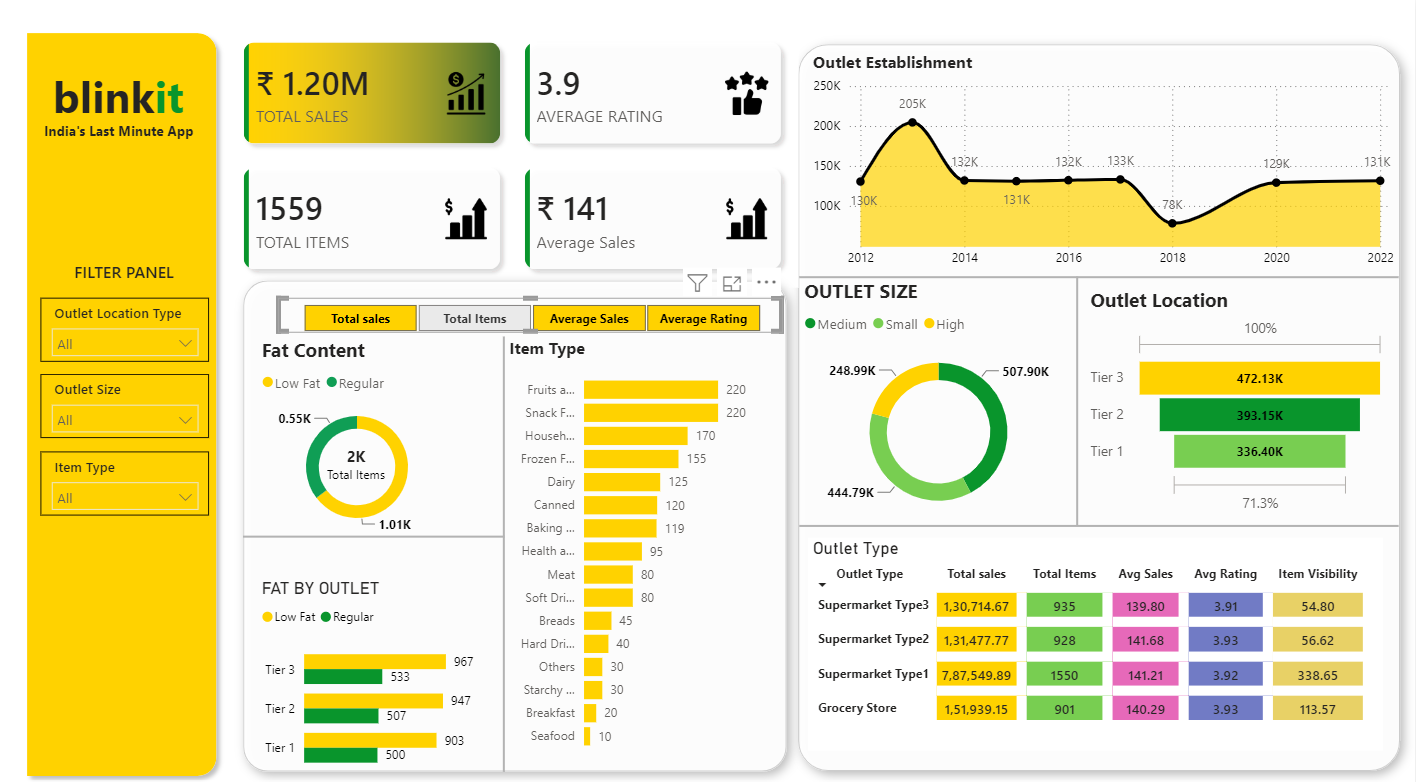

Layout of this report page (visuals, bound fields, positions):
{"tool":"powerbi","page":{"name":"Page 1","canvas":[1400,800],"ordinal":0},"visuals":[{"type":"shape","box":[775.6,30,624.4,747.8],"z":0},{"type":"cardVisual","fields":{"Data":["Sum(BlinkIT Grocery Data.Total Sales)","BlinkIT Grocery Data.Total Items","Avg(BlinkIT Grocery Data.Rating)","BlinkIT Grocery Data.AVERAGE SALES"]},"box":[226.4,25.4,564.7,259.4],"z":1000},{"type":"shape","box":[226.7,263.3,566.7,515],"z":2000},{"type":"shape","box":[20,25,205,751.7],"z":3000},{"type":"textbox","box":[49.5,61.5,150.1,81],"z":4000},{"type":"textbox","box":[40.5,115.6,166.6,36],"z":5000},{"type":"donutChart","title":"Fat Content","fields":{"Y":["BlinkIT Grocery Data.Total sales"],"Category":["BlinkIT Grocery Data.Item Fat Content"]},"box":[255.6,333.2,198.4,203.5],"z":6000},{"type":"slicer","fields":{"Values":["Metrics.Metrics"]},"box":[276,295.1,499.8,34.3],"z":7000},{"type":"cardVisual","fields":{"Data":["BlinkIT Grocery Data.Total sales"]},"box":[311.6,435,85.2,48.3],"z":8000},{"type":"clusteredBarChart","title":"FAT BY OUTLET","fields":{"Y":["BlinkIT Grocery Data.Total sales"],"Category":["BlinkIT Grocery Data.Outlet Location Type"],"Series":["BlinkIT Grocery Data.Item Fat Content"]},"box":[255,571.7,220,205],"z":9000},{"type":"shape","box":[241.6,526.5,258.2,10.2],"z":10000},{"type":"shape","box":[465,333.3,68.3,430],"z":11000},{"type":"barChart","title":"Item Type","fields":{"Y":["BlinkIT Grocery Data.Total sales"],"Category":["BlinkIT Grocery Data.Item Type"]},"box":[499.8,333.2,264.5,418.4],"z":12000},{"type":"lineChart","title":"Outlet Establishment","fields":{"Category":["BlinkIT Grocery Data.Outlet Establishment Year"],"Y":["BlinkIT Grocery Data.Total sales"]},"box":[800,51.1,583.3,223.3],"z":13000},{"type":"shape","box":[791.1,264.4,592.2,21.1],"z":14000},{"type":"donutChart","title":"OUTLET SIZE","fields":{"Y":["BlinkIT Grocery Data.Total sales"],"Category":["BlinkIT Grocery Data.Outlet Size"]},"box":[791.1,275.6,275.6,250],"z":15000},{"type":"funnel","title":"Outlet Location ","fields":{"Category":["BlinkIT Grocery Data.Outlet Location Type"],"Y":["Sum(BlinkIT Grocery Data.Sales)"]},"box":[1074.4,284.4,301.1,228.9],"z":16000},{"type":"pivotTable","title":"Outlet Type","fields":{"Rows":["BlinkIT Grocery Data.Outlet Type"],"Values":["BlinkIT Grocery Data.Total sales","BlinkIT Grocery Data.Total Items","BlinkIT Grocery Data.Average Sales","BlinkIT Grocery Data.Average Rating","Sum(BlinkIT Grocery Data.Item Visibility)"]},"box":[800,531.7,568.3,210],"z":17000},{"type":"shape","box":[791.1,510,592.2,21.1],"z":18000},{"type":"shape","box":[1031.1,274.4,70,246.7],"z":19000},{"type":"slicer","fields":{"Values":["BlinkIT Grocery Data.Outlet Location Type"]},"box":[41.7,295,166.7,63.3],"z":20000},{"type":"slicer","fields":{"Values":["BlinkIT Grocery Data.Outlet Size"]},"box":[41.7,370,166.7,63.3],"z":21000},{"type":"slicer","fields":{"Values":["BlinkIT Grocery Data.Item Type"]},"box":[41.7,446.7,166.7,63.3],"z":22000},{"type":"textbox","box":[63.3,253.3,123.3,58.3],"z":23000}]}

Visuals, with their boxes on the page's 1400x800 design canvas (x1, y1, x2, y2). These are canvas units, not pixel positions in the 1416x782 screenshot, which may show the page scaled, cropped or inside an application window:
shape: [left=776, top=30, right=1400, bottom=778]
cardVisual - Sum(BlinkIT Grocery Data.Total Sales) x BlinkIT Grocery Data.Total Items: [left=226, top=25, right=791, bottom=285]
shape: [left=227, top=263, right=793, bottom=778]
shape: [left=20, top=25, right=225, bottom=777]
textbox: [left=50, top=62, right=200, bottom=142]
textbox: [left=40, top=116, right=207, bottom=152]
"Fat Content" donutChart: [left=256, top=333, right=454, bottom=537]
slicer - Metrics.Metrics: [left=276, top=295, right=776, bottom=329]
cardVisual - BlinkIT Grocery Data.Total sales: [left=312, top=435, right=397, bottom=483]
"FAT BY OUTLET" clusteredBarChart: [left=255, top=572, right=475, bottom=777]
shape: [left=242, top=526, right=500, bottom=537]
shape: [left=465, top=333, right=533, bottom=763]
"Item Type" barChart: [left=500, top=333, right=764, bottom=752]
"Outlet Establishment" lineChart: [left=800, top=51, right=1383, bottom=274]
shape: [left=791, top=264, right=1383, bottom=286]
"OUTLET SIZE" donutChart: [left=791, top=276, right=1067, bottom=526]
"Outlet Location " funnel: [left=1074, top=284, right=1376, bottom=513]
"Outlet Type" pivotTable: [left=800, top=532, right=1368, bottom=742]
shape: [left=791, top=510, right=1383, bottom=531]
shape: [left=1031, top=274, right=1101, bottom=521]
slicer - BlinkIT Grocery Data.Outlet Location Type: [left=42, top=295, right=208, bottom=358]
slicer - BlinkIT Grocery Data.Outlet Size: [left=42, top=370, right=208, bottom=433]
slicer - BlinkIT Grocery Data.Item Type: [left=42, top=447, right=208, bottom=510]
textbox: [left=63, top=253, right=187, bottom=312]
